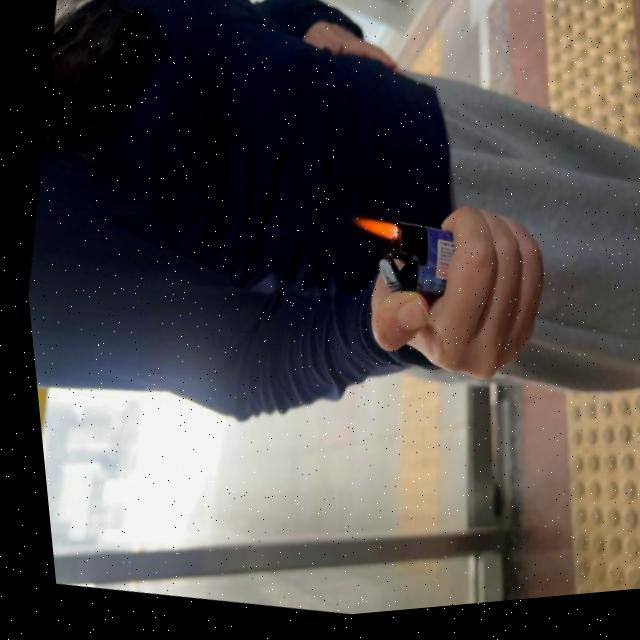Fire: (347, 221, 390, 253)
